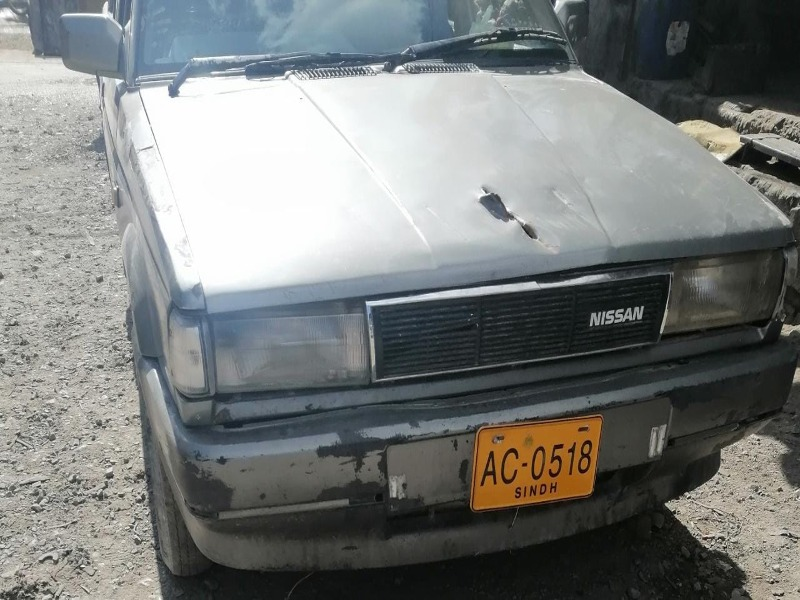License Plate: (463, 416, 601, 515)
